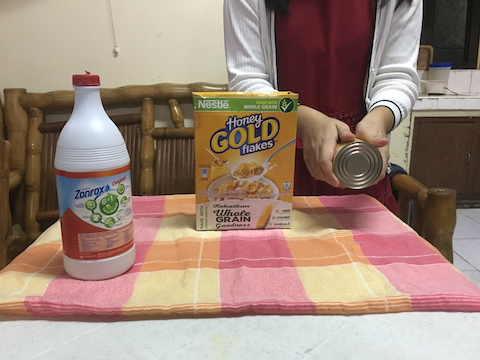bottle: (48, 68, 141, 285)
box: (192, 86, 303, 233)
can: (329, 136, 386, 191)
grab: (305, 120, 356, 187)
